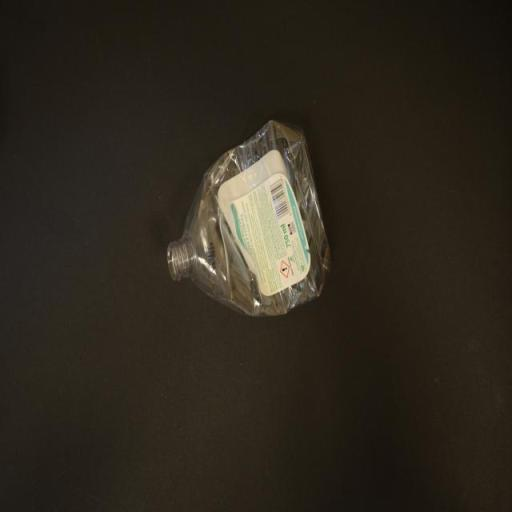plastic: (166, 122, 330, 323)
